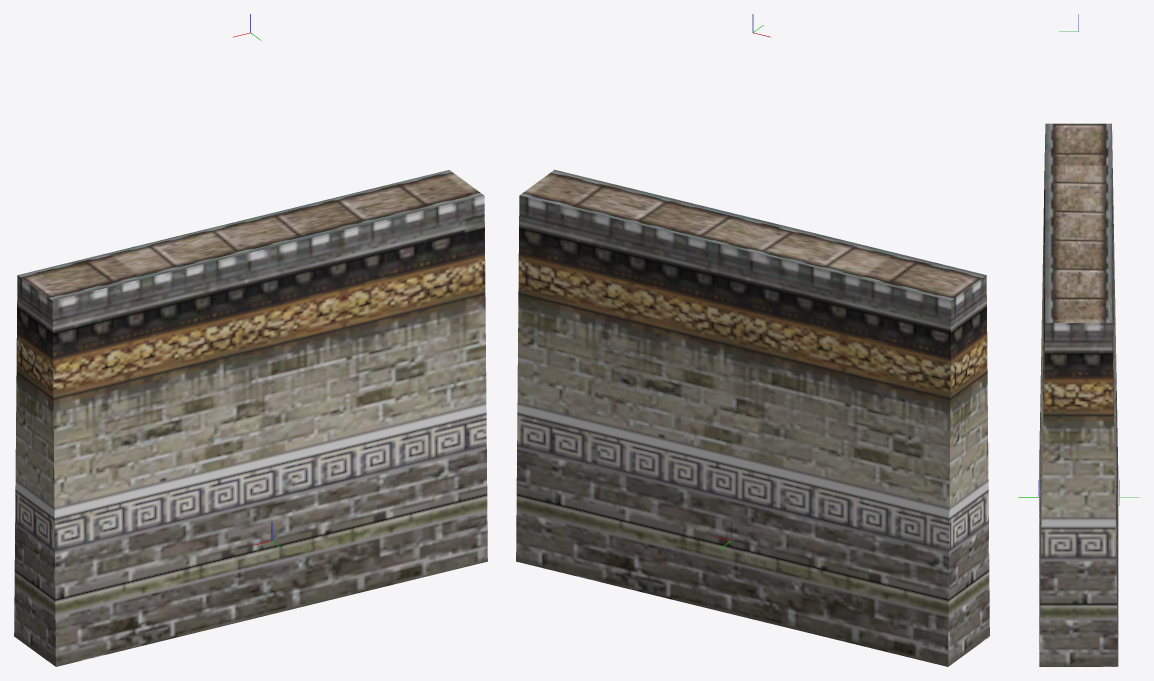
Rendered from greek-wall-medium.glb.
3 renders of one model, left to right at view 1: azimuth 30°, elevation 25°; view 2: azimuth 150°, elevation 25°; view 3: azimuth 270°, elevation 25°, orthographic. The views are drawn at different scales.
Parts seen in each view (by area): view 1: building g wall mediumModel; view 2: building g wall mediumModel; view 3: building g wall mediumModel.
Part boxes in pixels (bbox=[...]): building g wall mediumModel: bbox=[14, 170, 487, 666]; building g wall mediumModel: bbox=[516, 169, 989, 666]; building g wall mediumModel: bbox=[1039, 123, 1118, 666].
Size of the model in its own units: 5.97 by 7.72 by 1.53.
3 materials, 2 textured.
